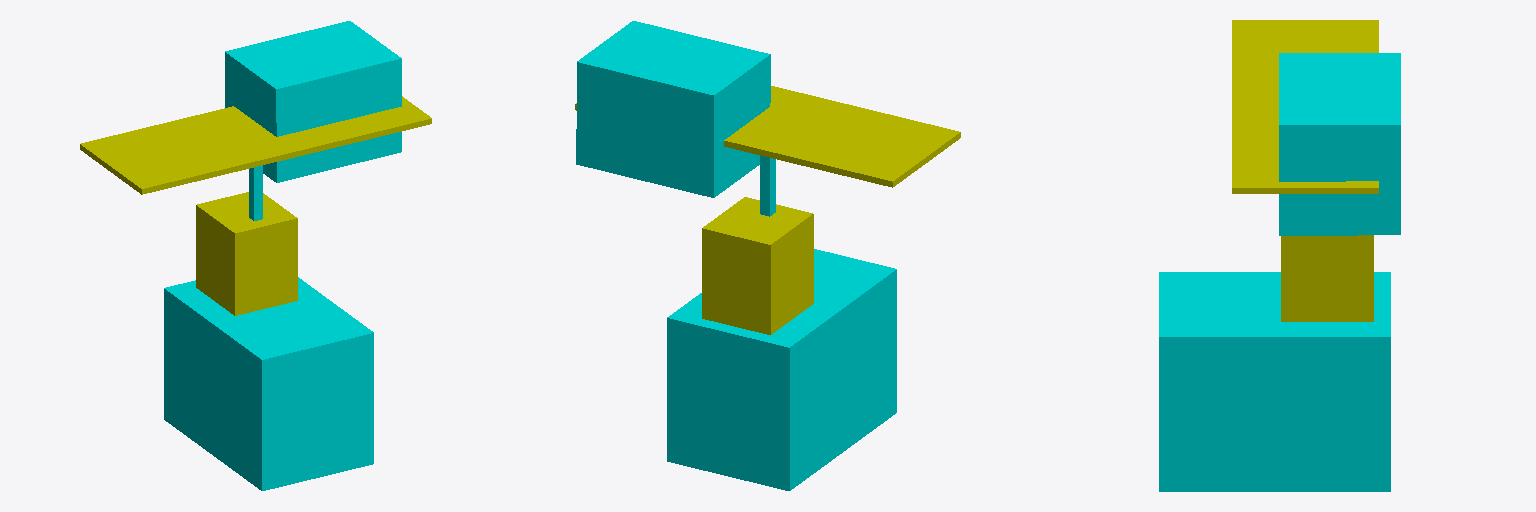
robot.urdf — real_pantilt:
<?xml version="1.0"?>
<!--
    NOMINAL (ground truth) pan-tilt URDF.
    This is the "correct" model that the solver should converge to.
    Straight from the original real_pantilt URDF with no calibration.
-->
<robot name="real_pantilt" xmlns:xacro="http://ros.org/wiki/xacro">

    <link name="map">
        <inertial>
            <mass value="0.001" />
            <origin xyz="0 0 0" rpy="0 0 0" />
            <inertia ixx="0.0001" ixy="0" ixz="0" iyy="0.0001" iyz="0" izz="0.0001" />
        </inertial>
    </link>

    <link name="base_link">
        <visual>
            <origin xyz="0.0 -0.05 0.035" rpy="0 0 0" />
            <geometry><box size="0.0625 0.095 0.07" /></geometry>
            <material name="Cyan1"><color rgba="0 0.9 0.9 1.0" /></material>
        </visual>
        <collision>
            <origin xyz="0.0 -0.05 0.035" rpy="0 0 0" />
            <geometry><box size="0.0625 0.095 0.07" /></geometry>
        </collision>
        <inertial>
            <mass value="1" />
            <origin xyz="0 0 0" rpy="0 0 0" />
            <inertia ixx="0.01" ixy="0" ixz="0" iyy="0.01" iyz="0" izz="0.01" />
        </inertial>
    </link>

    <joint name="map_to_base" type="fixed">
        <origin xyz="0 0 0" rpy="0 0 0" />
        <parent link="map" />
        <child link="base_link" />
    </joint>

    <link name="pan_link">
        <visual>
            <origin xyz="0 0 0" rpy="0 0 0" />
            <geometry><box size="0.035 0.038 0.044" /></geometry>
            <material name="Yellow2"><color rgba="0.8 0.8 0 1.0" /></material>
        </visual>
        <collision>
            <origin xyz="0 0 0" rpy="0 0 0" />
            <geometry><box size="0.035 0.038 0.044" /></geometry>
        </collision>
        <inertial>
            <mass value="0.50" />
            <origin xyz="0 0 0" rpy="0 0 0" />
            <inertia ixx="0.01" ixy="0" ixz="0" iyy="0.01" iyz="0" izz="0.01" />
        </inertial>
    </link>

    <!-- joint2 (pan): NOMINAL values -->
    <joint name="joint2" type="revolute">
        <parent link="base_link" />
        <child link="pan_link" />
        <origin xyz="0 -0.0285 0.092" rpy="0 0 0" />
        <axis xyz="0 0 -1" />
        <limit effort="10" lower="-3.1416" upper="3.1416" velocity="3" />
        <dynamics damping="1.0" />
    </joint>

    <link name="tilt_link">
        <visual>
            <origin xyz="-0.022 0 0" rpy="0 -1.57 0" />
            <geometry><box size="0.005 0.005 0.044" /></geometry>
            <material name="Cyan1"><color rgba="0 0.9 0.9 1.0" /></material>
        </visual>
        <collision>
            <origin xyz="-0.022 0 0" rpy="0 -1.57 0" />
            <geometry><box size="0.005 0.005 0.044" /></geometry>
        </collision>
        <inertial>
            <mass value="0.20" />
            <origin xyz="0 0 0" rpy="0 0 0" />
            <inertia ixx="0.01" ixy="0" ixz="0" iyy="0.01" iyz="0" izz="0.01" />
        </inertial>
    </link>

    <!-- joint1 (tilt): NOMINAL values -->
    <joint name="joint1" type="revolute">
        <parent link="pan_link" />
        <child link="tilt_link" />
        <origin xyz="0 -0.009 0.022" rpy="0 1.57 0" />
        <axis xyz="0 0 1" />
        <limit effort="10" lower="-0.8727" upper="0.8727" velocity="3" />
        <dynamics damping="1.0" />
    </joint>

    <link name="hokuyo_base">
        <visual>
            <origin xyz="0 0 0" rpy="0 -1.57 0" />
            <geometry><box size="0.162 0.06 0.003" /></geometry>
            <material name="Yellow2"><color rgba="0.8 0.8 0 1.0" /></material>
        </visual>
        <collision>
            <origin xyz="0 0 0" rpy="0 -1.57 0" />
            <geometry><box size="0.162 0.06 0.003" /></geometry>
        </collision>
        <inertial>
            <mass value="0.10" />
            <origin xyz="0 0 0" rpy="0 0 0" />
            <inertia ixx="0.01" ixy="0" ixz="0" iyy="0.01" iyz="0" izz="0.01" />
        </inertial>
    </link>

    <joint name="hokuyo_base_joint" type="fixed">
        <parent link="tilt_link" />
        <child link="hokuyo_base" />
        <origin xyz="-0.045 0 0" rpy="0 0 0" />
        <dynamics damping="1.0" />
    </joint>

    <link name="laser">
        <visual>
            <origin xyz="0.0 0.0 -0.059" rpy="1.57 0 0" />
            <geometry>
                <box size="0.05 0.05 0.07" />
            </geometry>
            <material name="Cyan1"><color rgba="0 0.9 0.9 1.0" /></material>
        </visual>
        <collision>
            <origin xyz="0.0 0.0 -0.059" rpy="1.57 0 0" />
            <geometry>
                <box size="0.05 0.05 0.07" />
            </geometry>
        </collision>
        <inertial>
            <mass value="0.16" />
            <origin xyz="0 0 0" rpy="0 0 0" />
            <inertia ixx="0.001" ixy="0" ixz="0" iyy="0.001" iyz="0" izz="0.001" />
        </inertial>
    </link>

    <joint name="hokuyo_joint" type="fixed">
        <origin xyz="-0.061 0.014 0.040" rpy="1.57 3.14 -1.57" />
        <parent link="hokuyo_base" />
        <child link="laser" />
        <dynamics damping="1.0" />
    </joint>

    <!-- =================== GAZEBO EXTENSIONS =================== -->

    <!-- Hokuyo planar lidar plugin (same as real URG-04LX) -->
    <gazebo reference="laser">
        <sensor type="ray" name="hokuyo_sensor">
            <pose>0 0 0 0 0 0</pose>
            <visualize>true</visualize>
            <update_rate>10</update_rate>
            <ray>
                <scan>
                    <horizontal>
                        <samples>683</samples>
                        <resolution>1</resolution>
                        <min_angle>-2.0944</min_angle>
                        <max_angle>2.0944</max_angle>
                    </horizontal>
                </scan>
                <range>
                    <min>0.06</min>
                    <max>4.095</max>
                    <resolution>0.001</resolution>
                </range>
                <noise>
                    <type>gaussian</type>
                    <mean>0.0</mean>
                    <stddev>0.001</stddev>
                </noise>
            </ray>
            <plugin name="gazebo_ros_hokuyo" filename="libgazebo_ros_laser.so">
                <topicName>/scan</topicName>
                <frameName>laser</frameName>
            </plugin>
        </sensor>
    </gazebo>

    <!-- Fix robot to world -->
    <gazebo>
        <static>false</static>
    </gazebo>
    <gazebo reference="map">
        <static>true</static>
    </gazebo>

    <!-- Low-friction joints for position control -->
    <gazebo reference="joint2">
        <implicitSpringDamper>true</implicitSpringDamper>
    </gazebo>
    <gazebo reference="joint1">
        <implicitSpringDamper>true</implicitSpringDamper>
    </gazebo>

</robot>

--- What the picture shows (computed from the rendered views, not written in the file) ---
Views: 3 orthographic renders of the robot side by side, from view 1: azimuth 30°, elevation 25°; view 2: azimuth 150°, elevation 25°; view 3: azimuth 270°, elevation 25°.
Model real_pantilt with 6 links and 5 joints (2 revolute, 3 fixed), rooted at map, posed every joint at zero.
Visible links, largest first — view 1: base_link, laser, hokuyo_base, pan_link, tilt_link; view 2: base_link, laser, hokuyo_base, pan_link, tilt_link; view 3: base_link, laser, hokuyo_base, pan_link.
Link boxes in pixels (bbox=[...]): base_link: bbox=[164, 277, 373, 490]; laser: bbox=[225, 21, 401, 182]; hokuyo_base: bbox=[80, 96, 431, 194]; pan_link: bbox=[196, 192, 297, 315]; tilt_link: bbox=[249, 165, 262, 220]; base_link: bbox=[667, 249, 896, 490]; laser: bbox=[576, 21, 770, 197]; hokuyo_base: bbox=[575, 86, 960, 187]; pan_link: bbox=[702, 197, 813, 334]; tilt_link: bbox=[760, 156, 775, 216]; base_link: bbox=[1159, 272, 1390, 491]; laser: bbox=[1279, 53, 1400, 235]; hokuyo_base: bbox=[1232, 20, 1378, 193]; pan_link: bbox=[1281, 235, 1373, 321].
Bounding box of the posed robot: 0.162 × 0.0991 × 0.1861 m (x, y, z).
Geometry: primitives only (box / cylinder / sphere), no mesh files.
